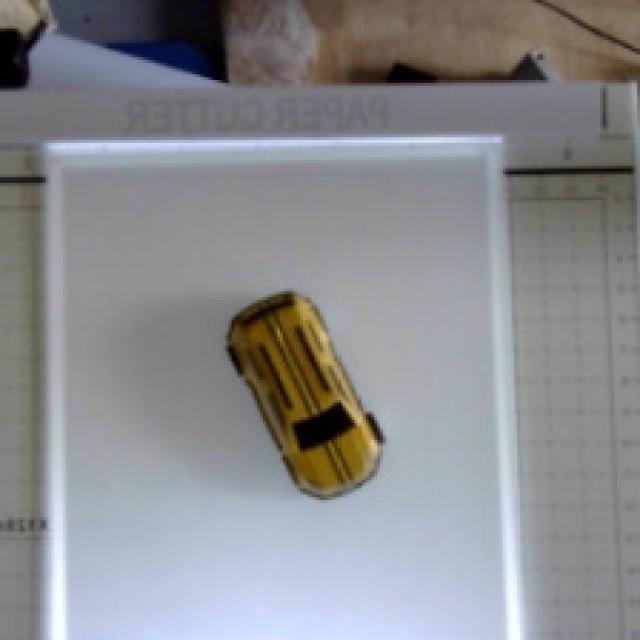Yellow Car: (183, 265, 463, 543)
